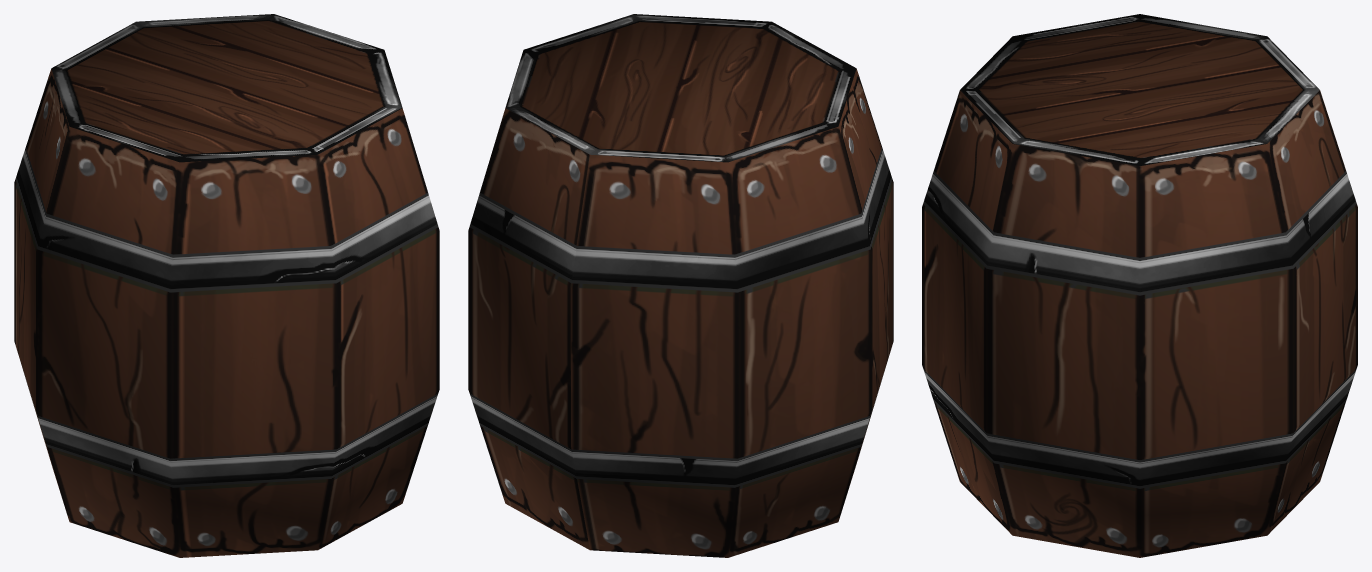
The model's file is Barrel_1.fbx.
3 renders of one model, left to right at view 1: azimuth 30°, elevation 25°; view 2: azimuth 150°, elevation 25°; view 3: azimuth 270°, elevation 25°, orthographic.
Visible parts, largest first — view 1: Barrel_1; view 2: Barrel_1; view 3: Barrel_1.
Boxes of the visible parts, <box> form: Barrel_1: <box>14,14,439,557</box>; Barrel_1: <box>468,14,893,557</box>; Barrel_1: <box>922,14,1357,557</box>.
Bounding box in the file's own units: 1.39 × 1.38 × 1.39.
